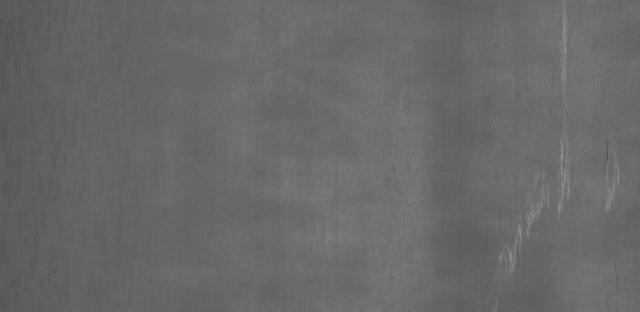silk_spot: (474, 34, 636, 286)
